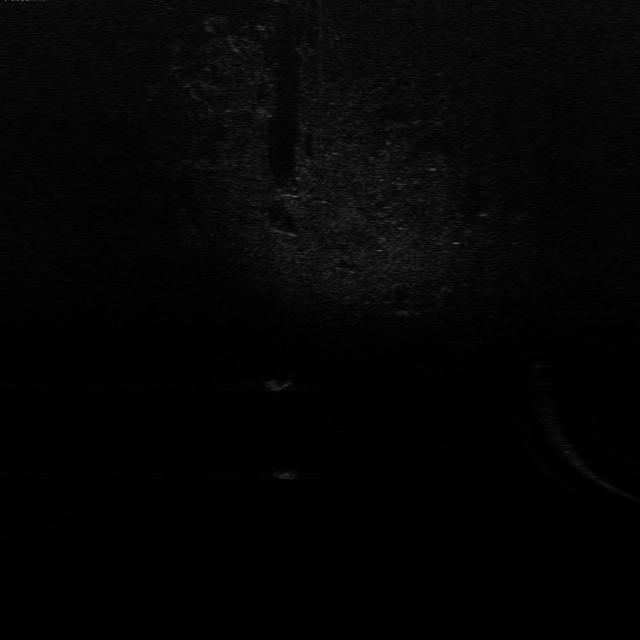cube: (272, 463, 304, 484)
square cage: (264, 372, 298, 396)
